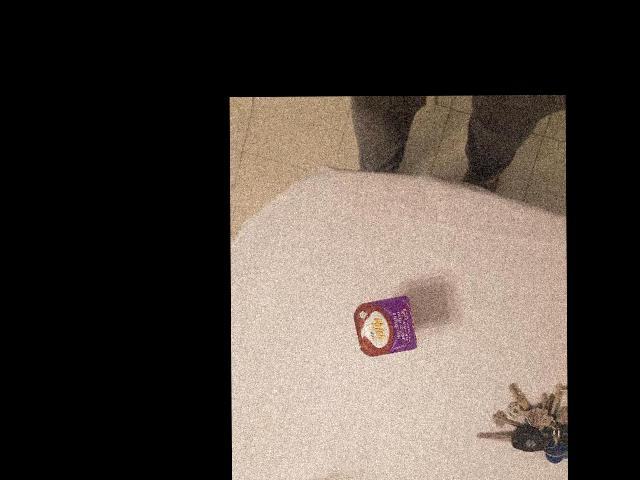milky: (311, 354, 379, 425)
